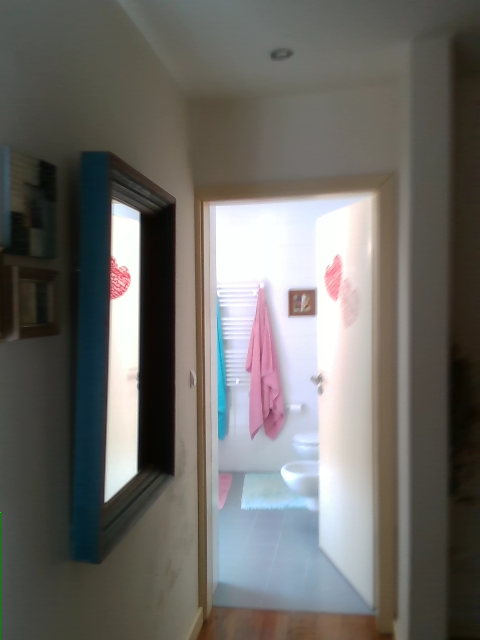open: (190, 174, 398, 621)
